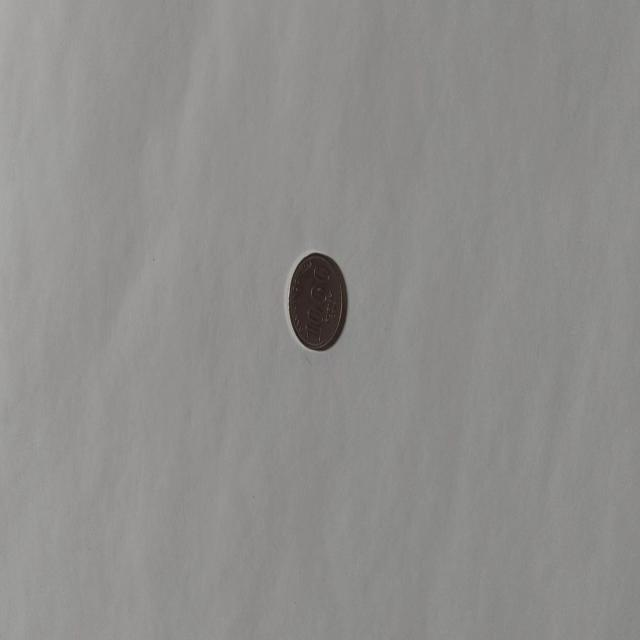seribu rupiah koin: (286, 250, 346, 352)
